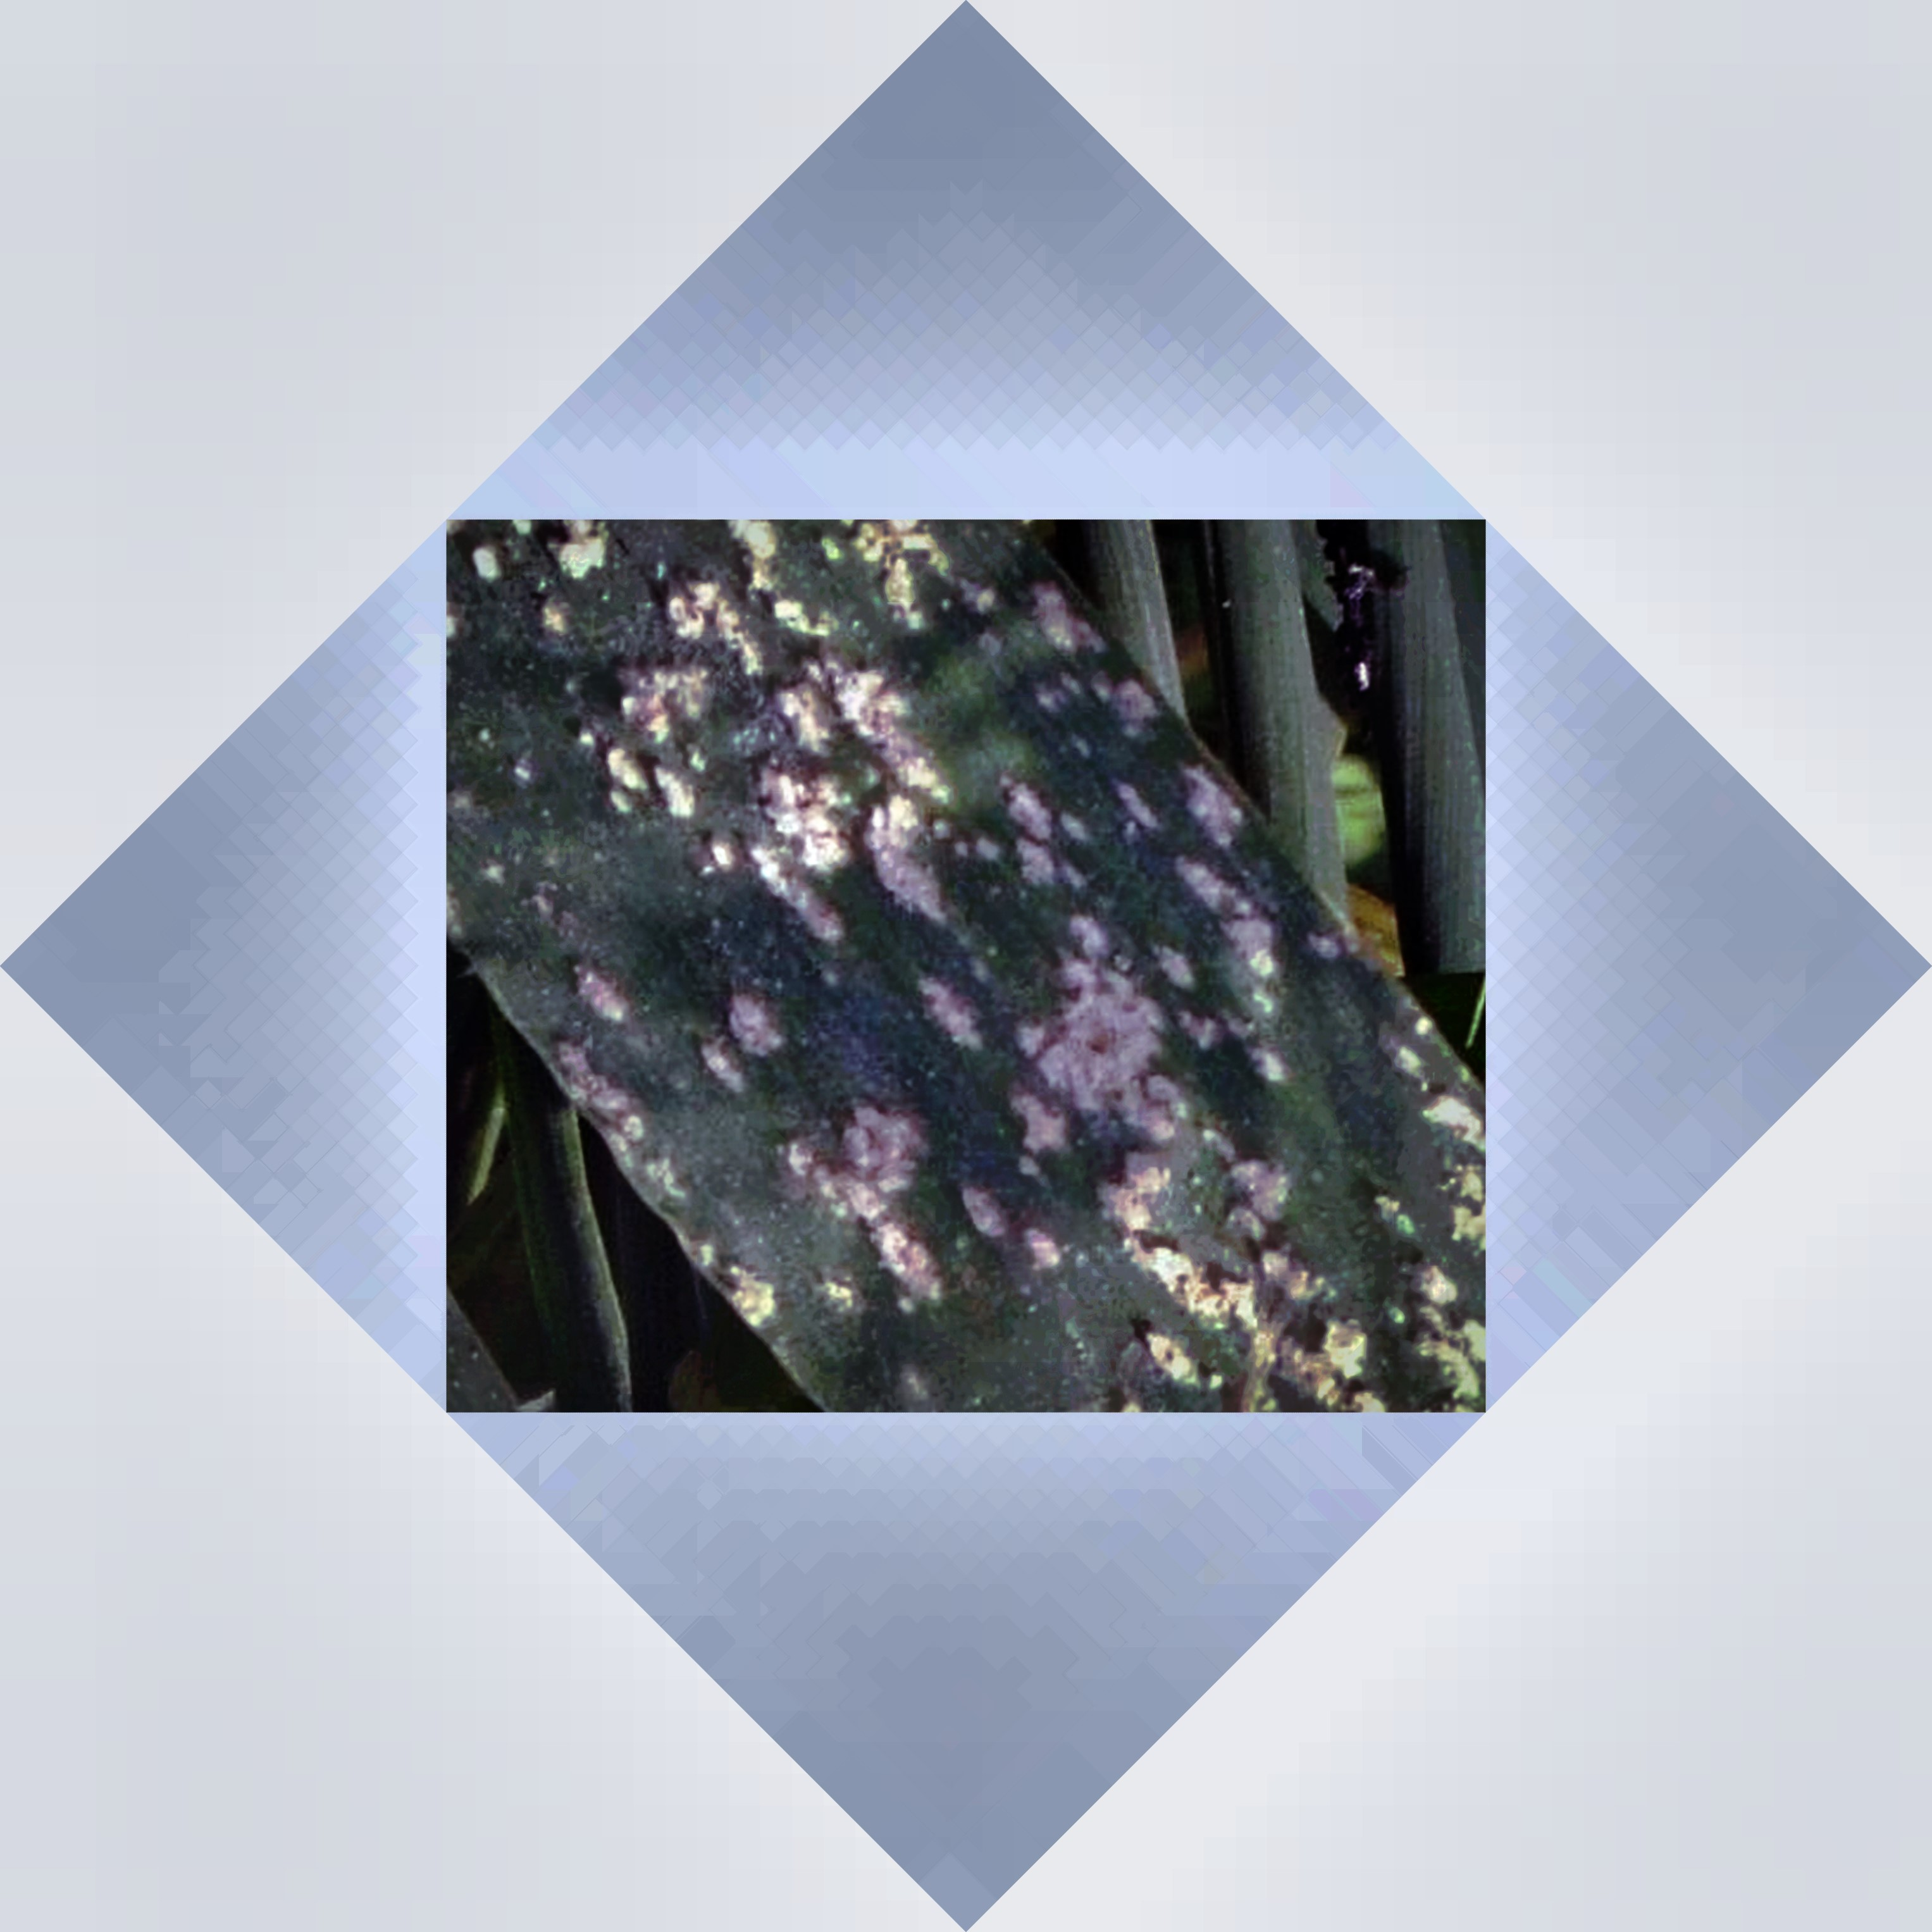Powdery Mildew: (488, 541, 1449, 1373)
